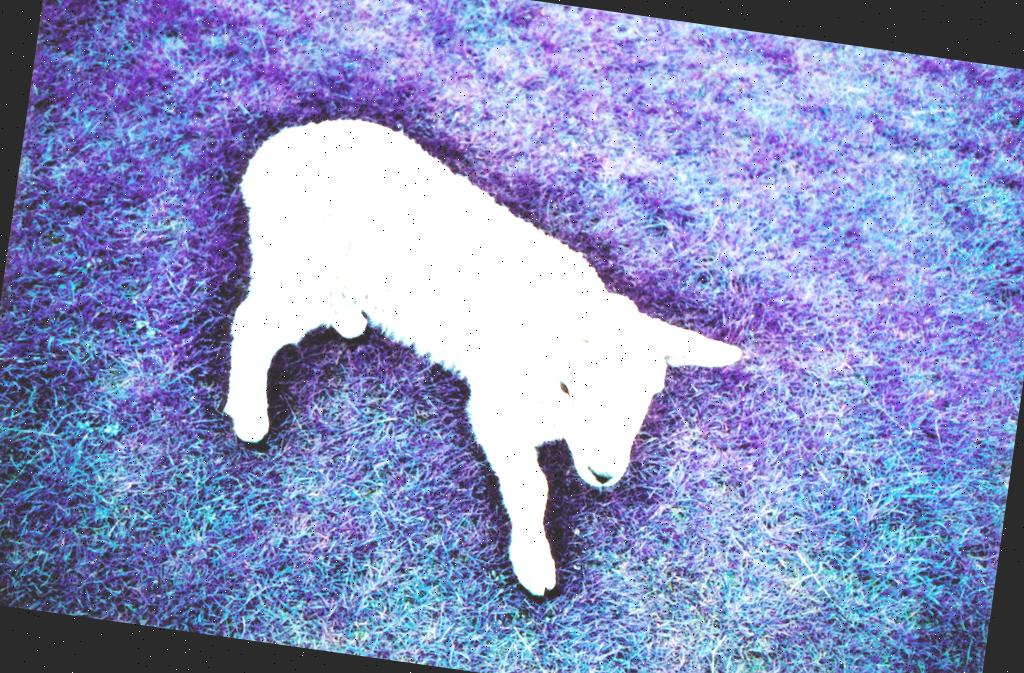Sheep: (172, 88, 746, 626)
